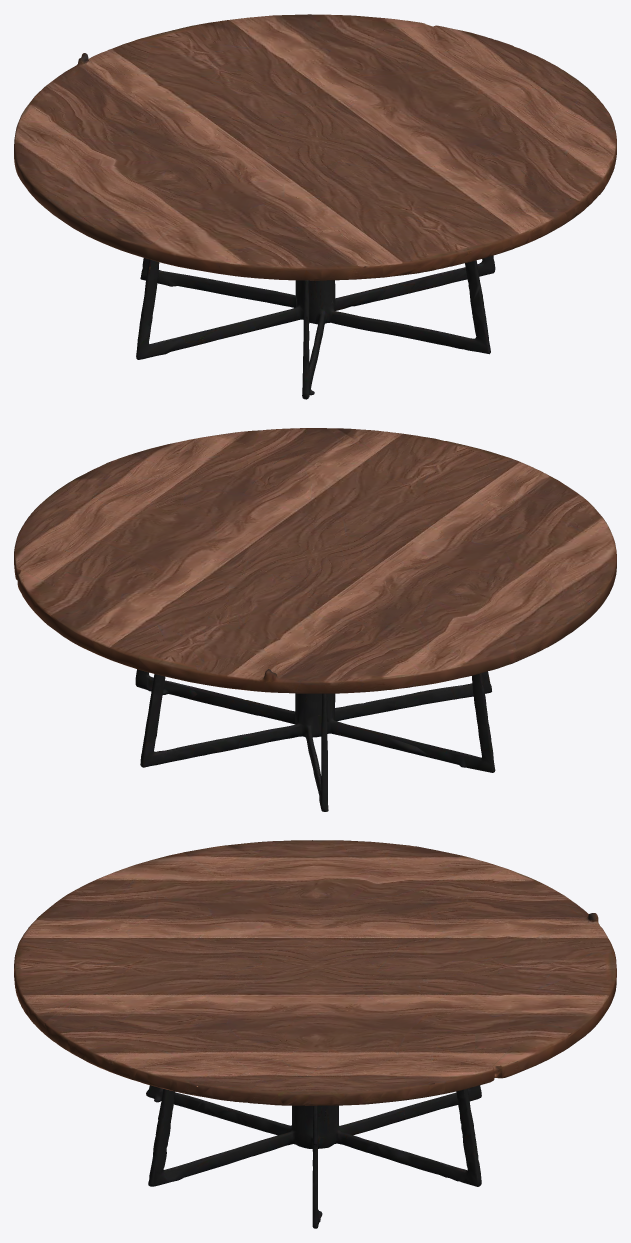
File: table.glb
3 views of the same model, one above another, from view 1: azimuth 30°, elevation 25°; view 2: azimuth 150°, elevation 25°; view 3: azimuth 270°, elevation 25° (orthographic).
Bounding box in the file's own units: 2.01 × 0.6823 × 2.01.
1 material, 1 textured.
